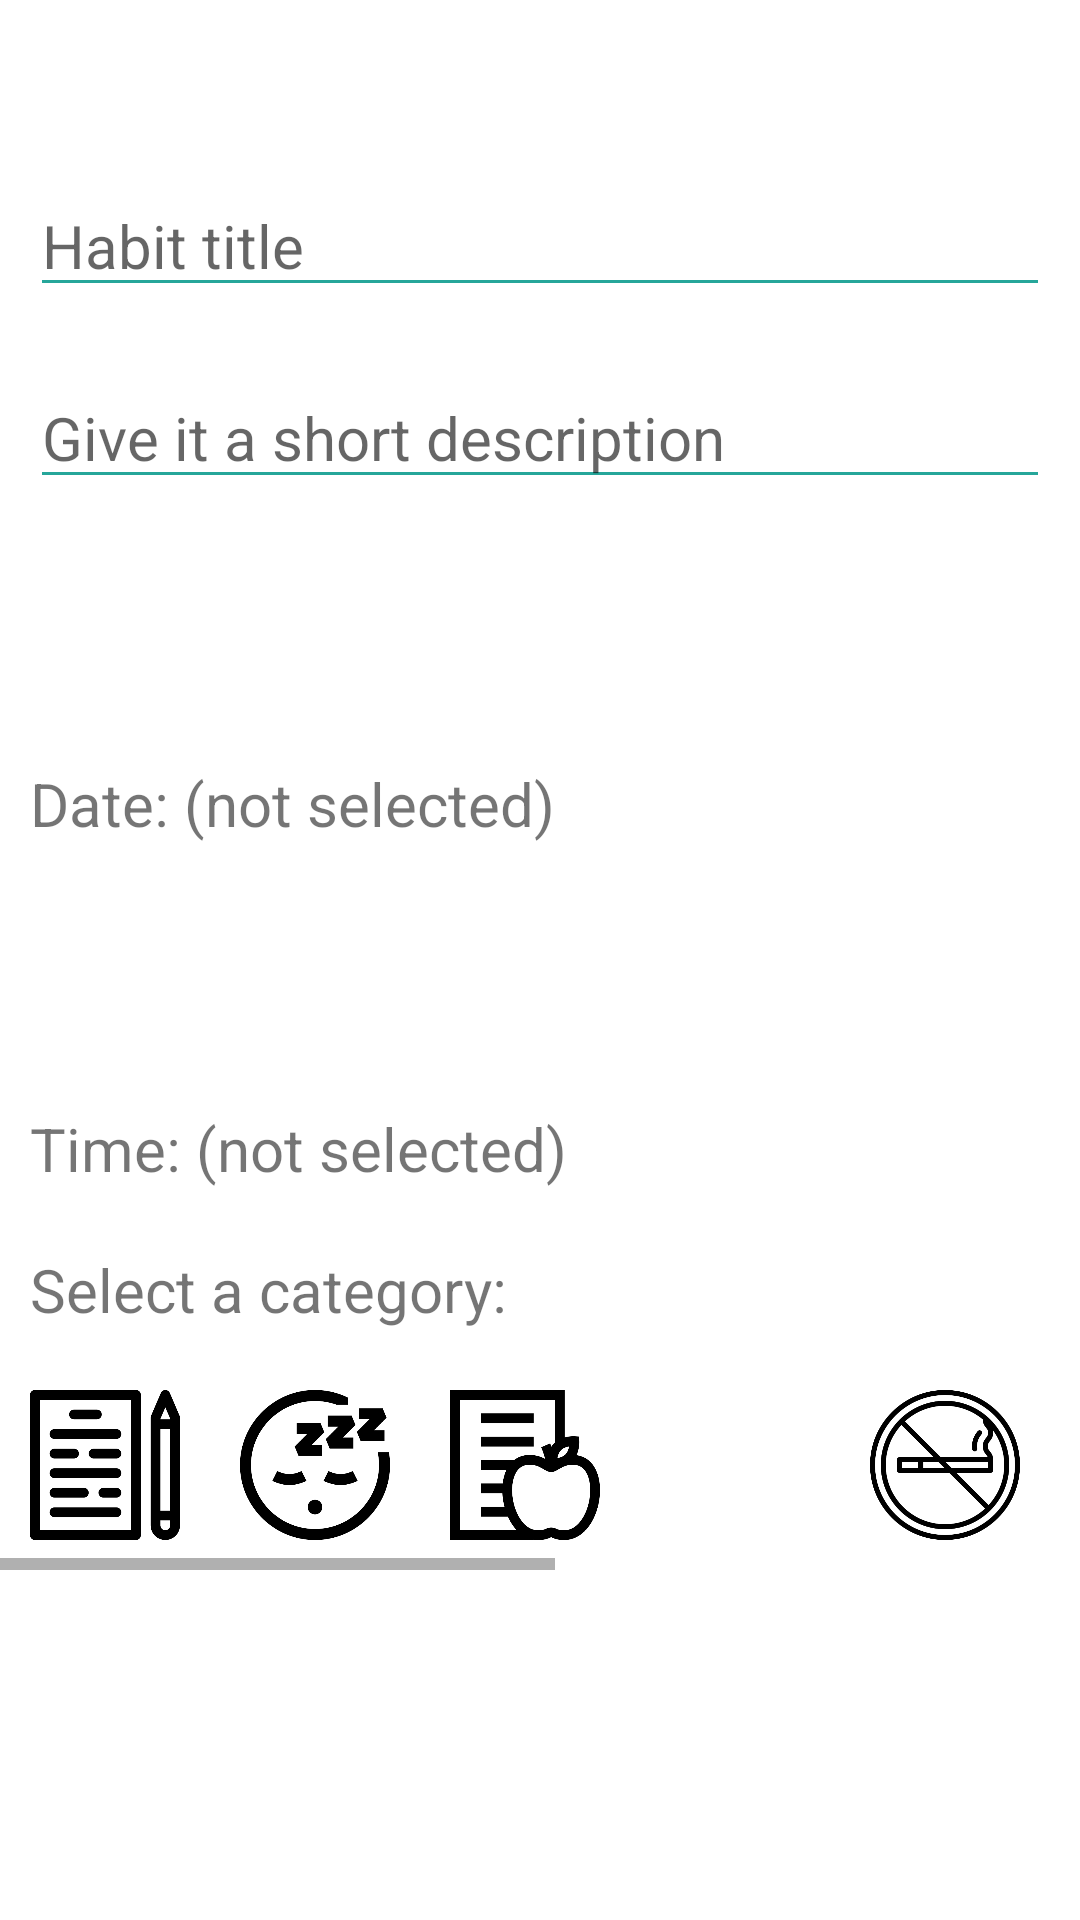

Named icons in this screenshot (1080px×1920px) and their centers, (x,y):
diet: (525,1465)
school: (105,1465)
sleep: (315,1465)
smoke: (945,1465)
